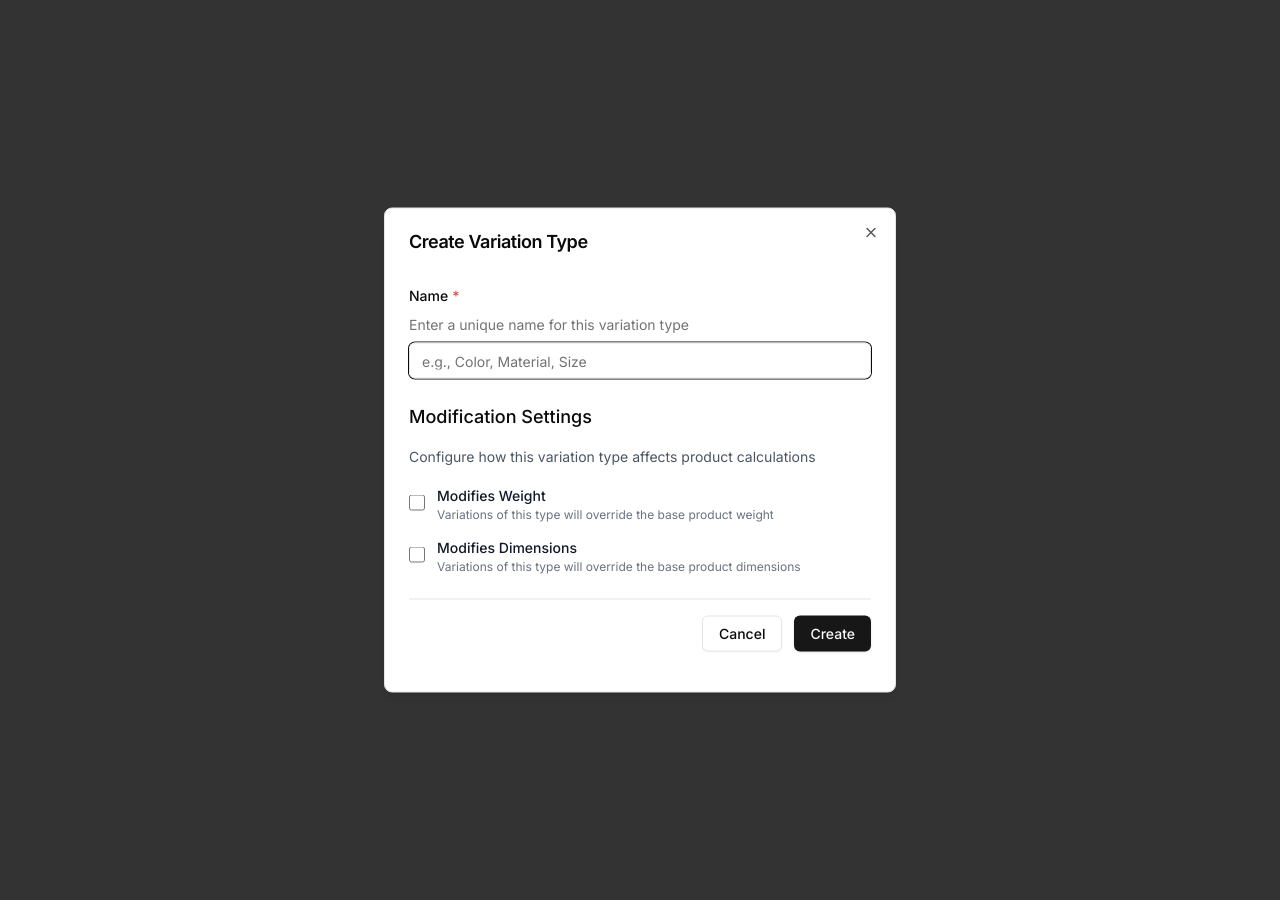
Scenario: VariationTypeForm › shows information message when modification flags are selected
Step 1. Click the checkbox labelled "Modifies Weight" → (417, 502), box [409, 494, 425, 510]
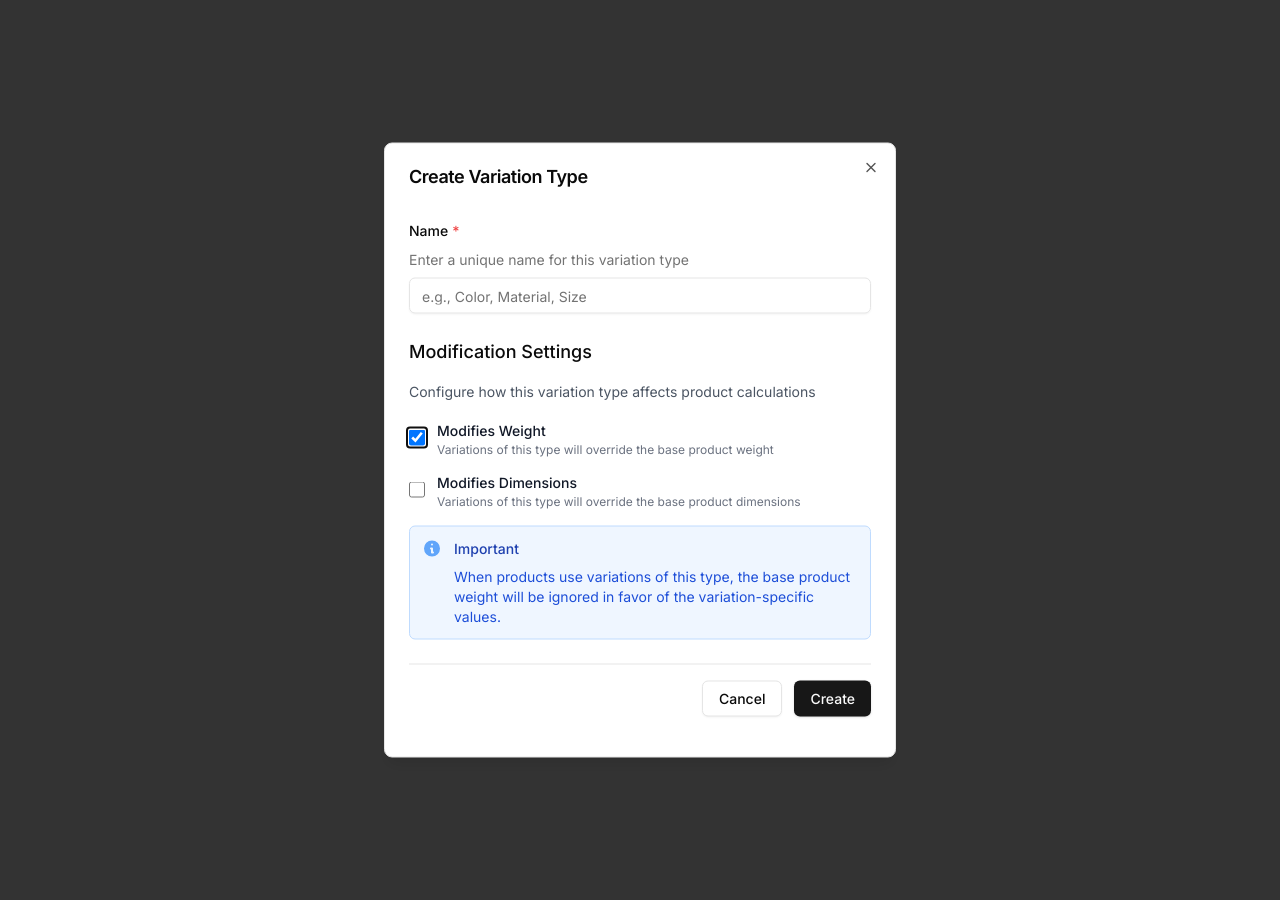
Expected: the text "When products use variations of this type" is shown, [454, 568, 850, 584]
